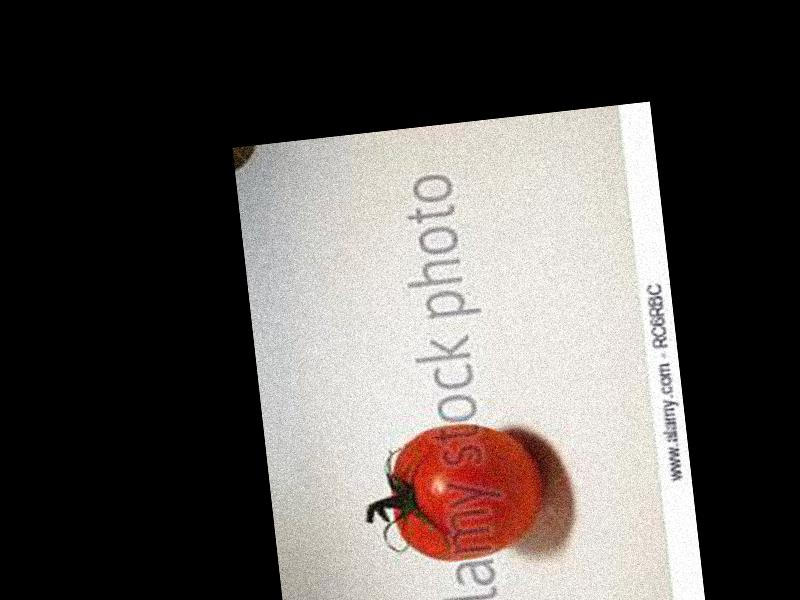Tomato: (382, 415, 547, 567)
